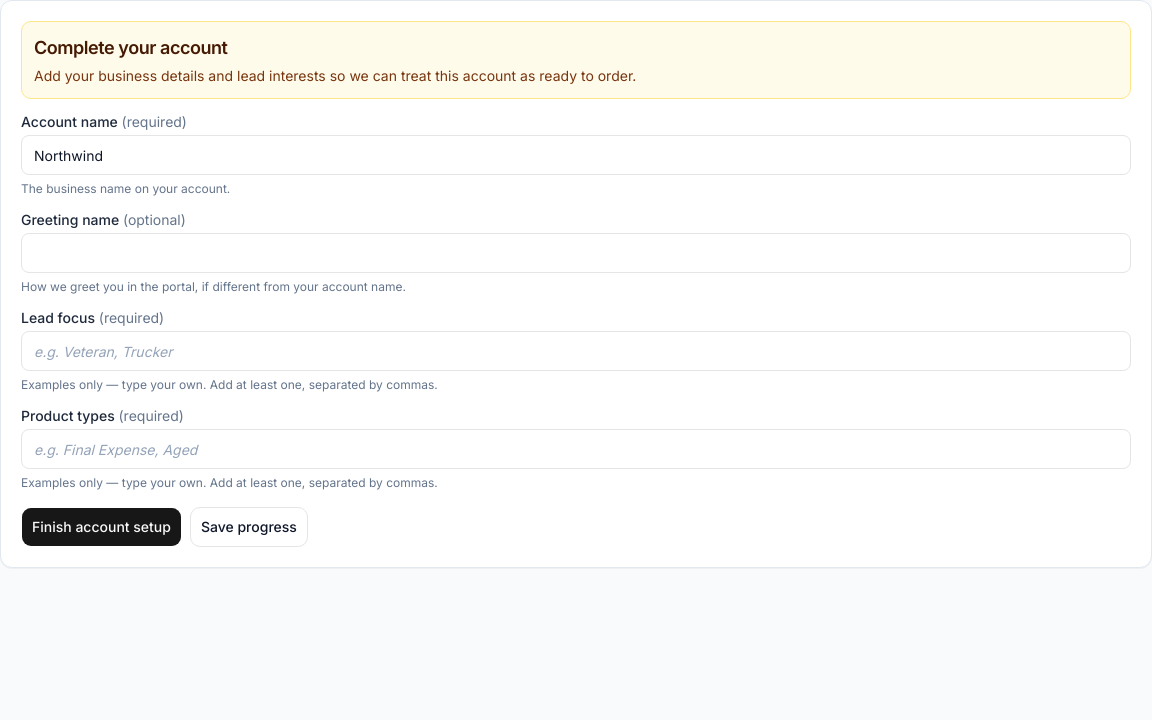
Scenario: finish with untouched placeholders shows required-field UX and does not submit examples
Step 1. Click the button "Finish account setup" → (101,527), box x1=21 y1=507 x2=182 y2=547
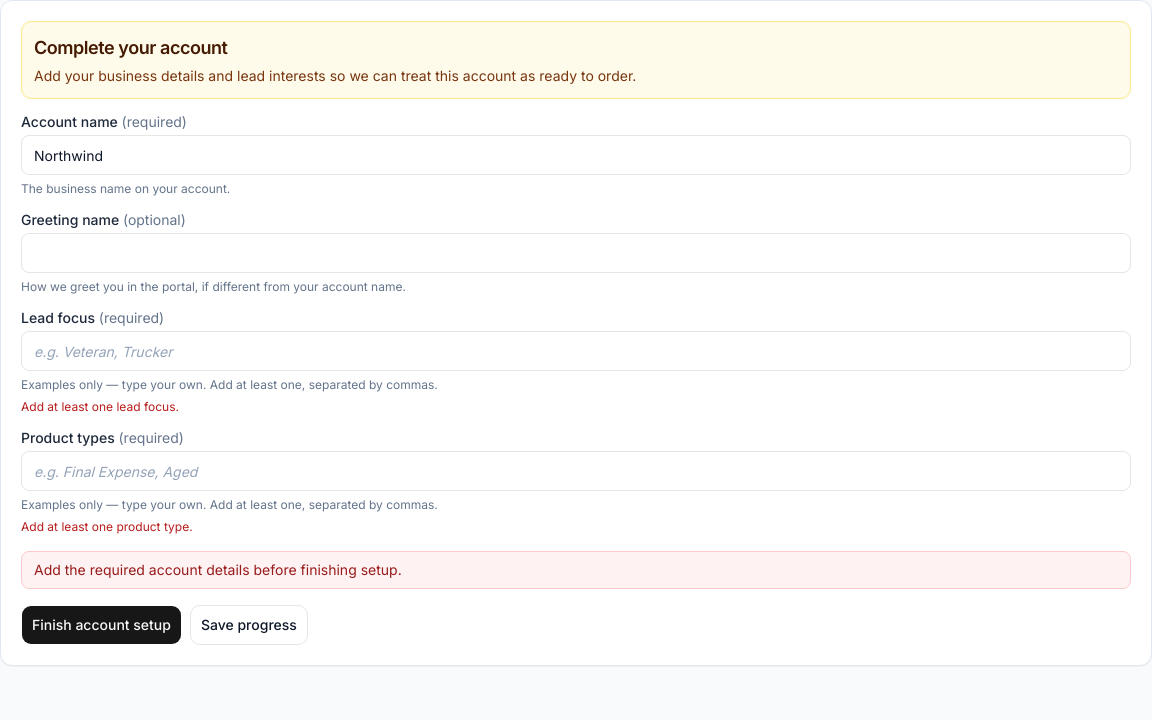
Expected: the heading "Complete your account" is shown, x1=34 y1=37 x2=228 y2=58
Expected: the text "Add at least one lead focus." is shown, x1=21 y1=399 x2=179 y2=414
Expected: the text "Add at least one product type." is shown, x1=21 y1=519 x2=193 y2=534
